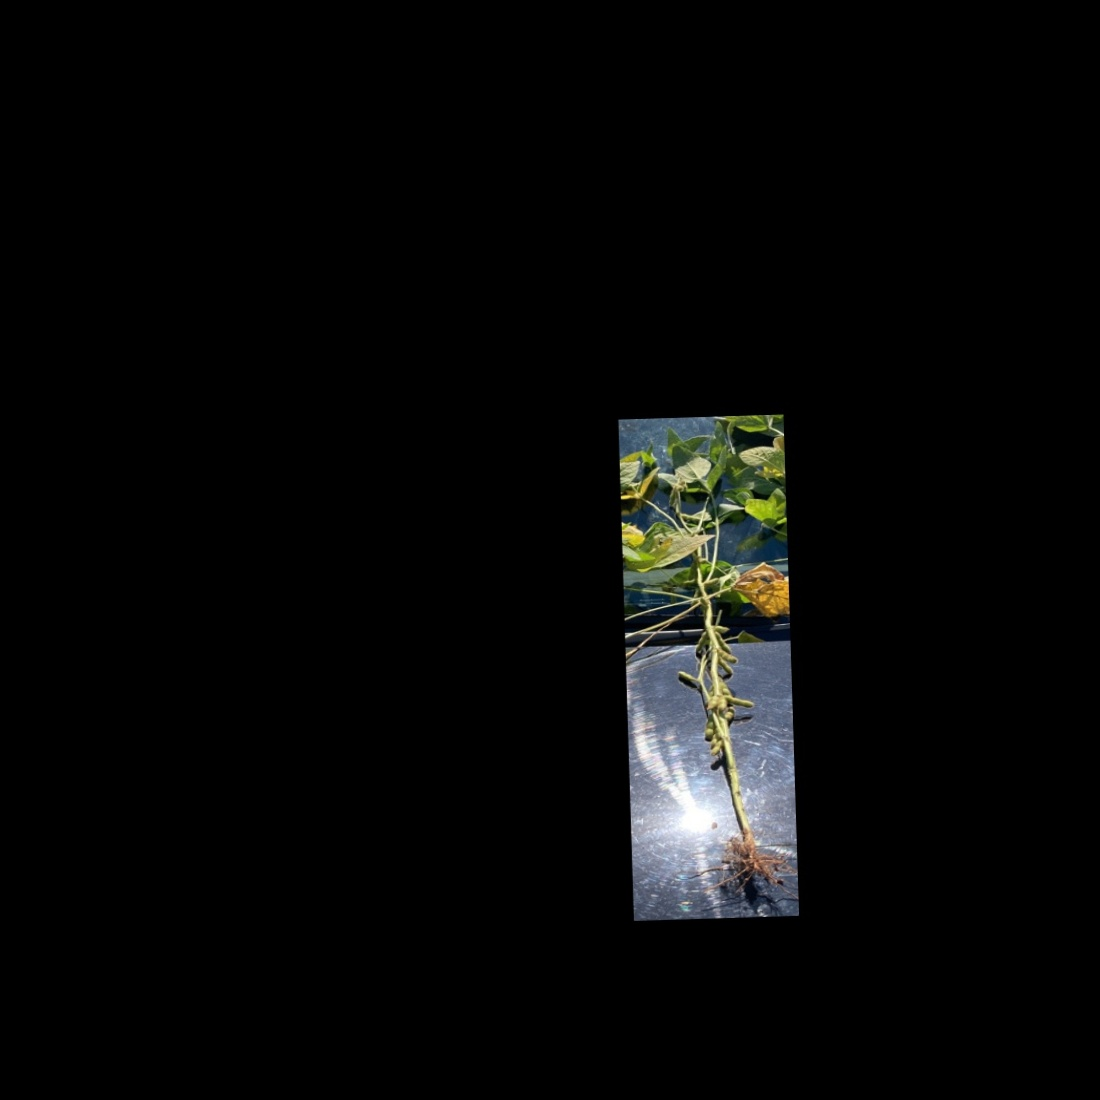pod: (689, 628, 712, 657), (715, 645, 739, 666), (724, 694, 755, 710), (715, 655, 735, 678), (675, 668, 699, 684), (699, 720, 716, 739), (705, 740, 722, 759)
soy: (640, 420, 790, 899)
